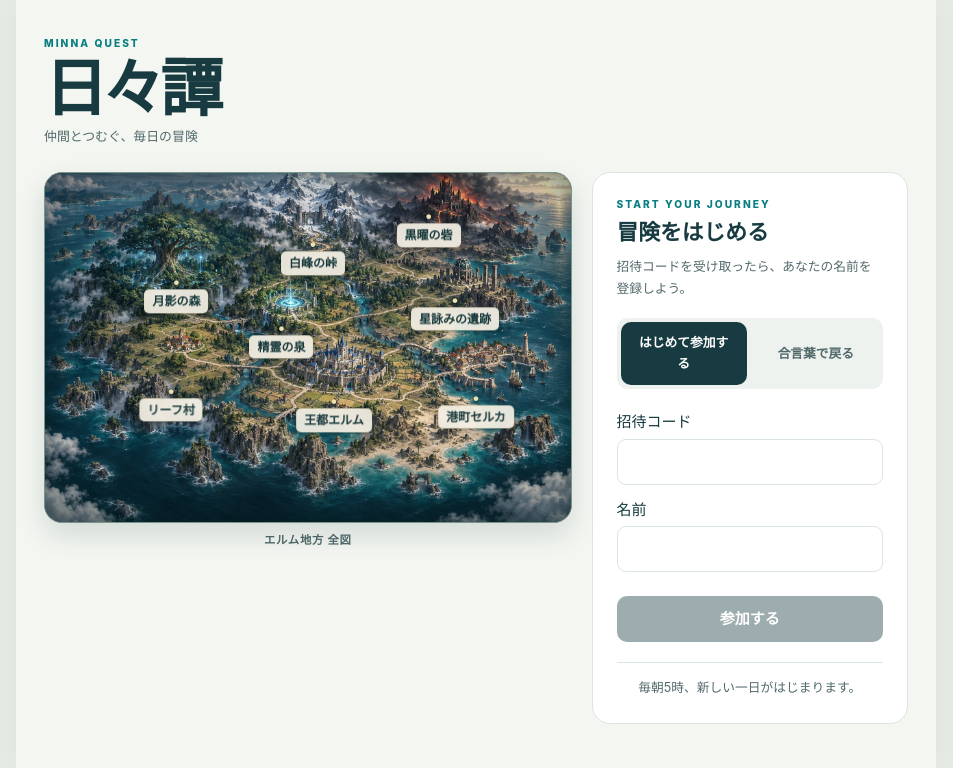
合言葉で戻る › 正しい合言葉を貼ると、招待コードを使わずに入れる
This screenshot has width=953, height=768.
Click the button "合言葉で戻る". click: click(816, 353)
box: left=753, top=322, right=879, bottom=385
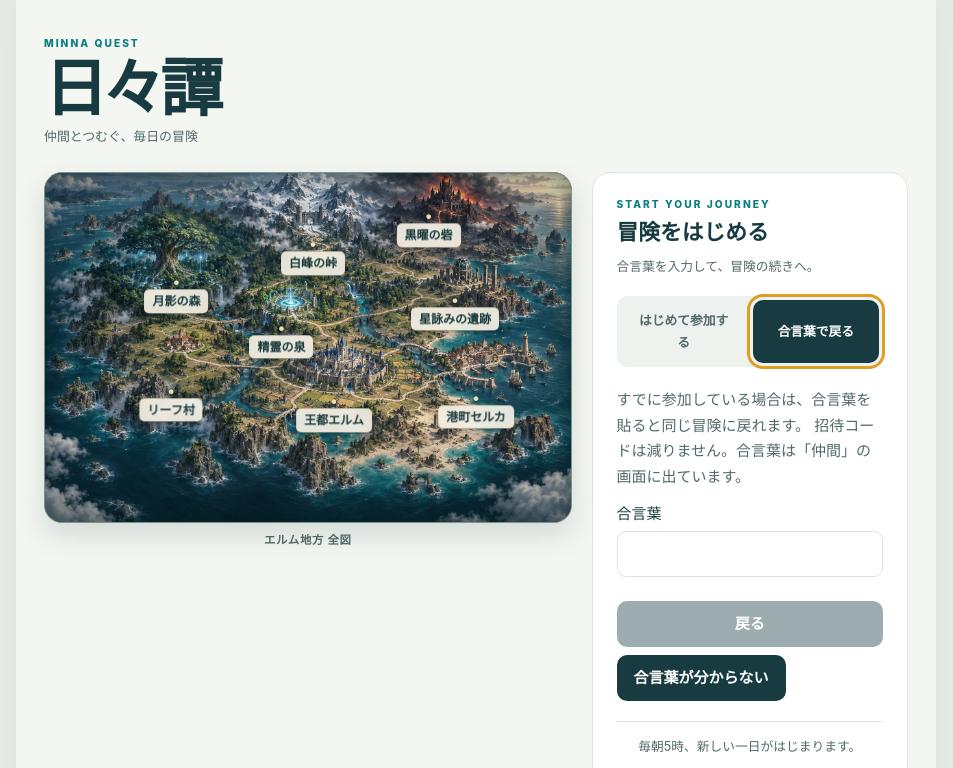
Type "secret-token" into the field labelled "合言葉". click: (750, 554)
box: left=616, top=531, right=883, bottom=577
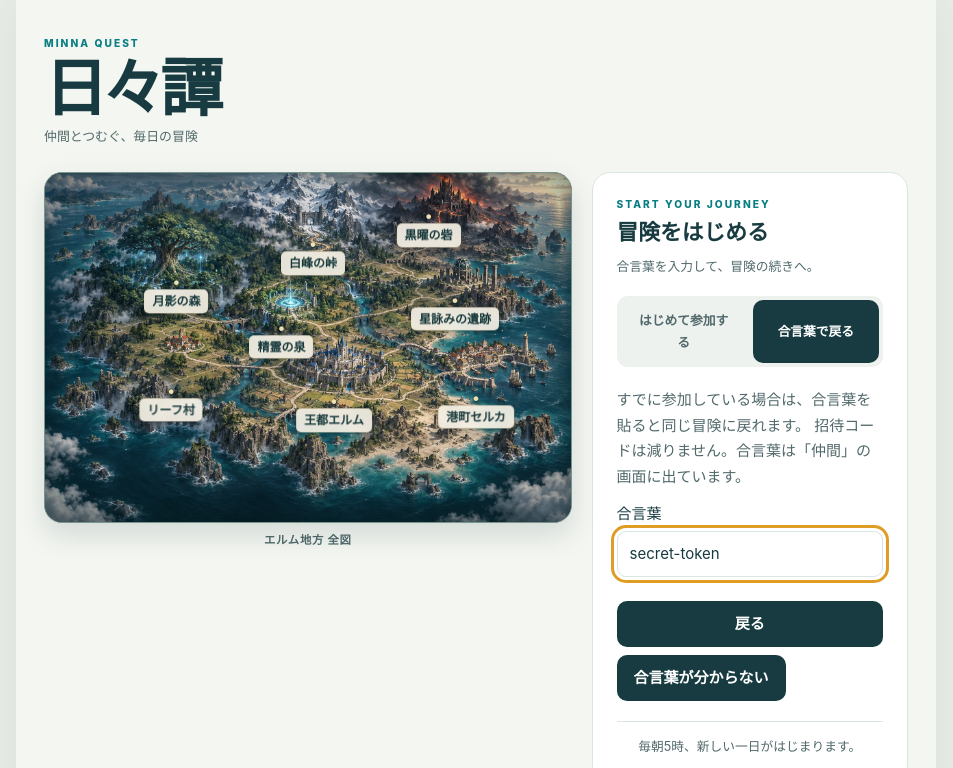
Click the button "戻る". click: click(750, 624)
box: left=616, top=601, right=883, bottom=647
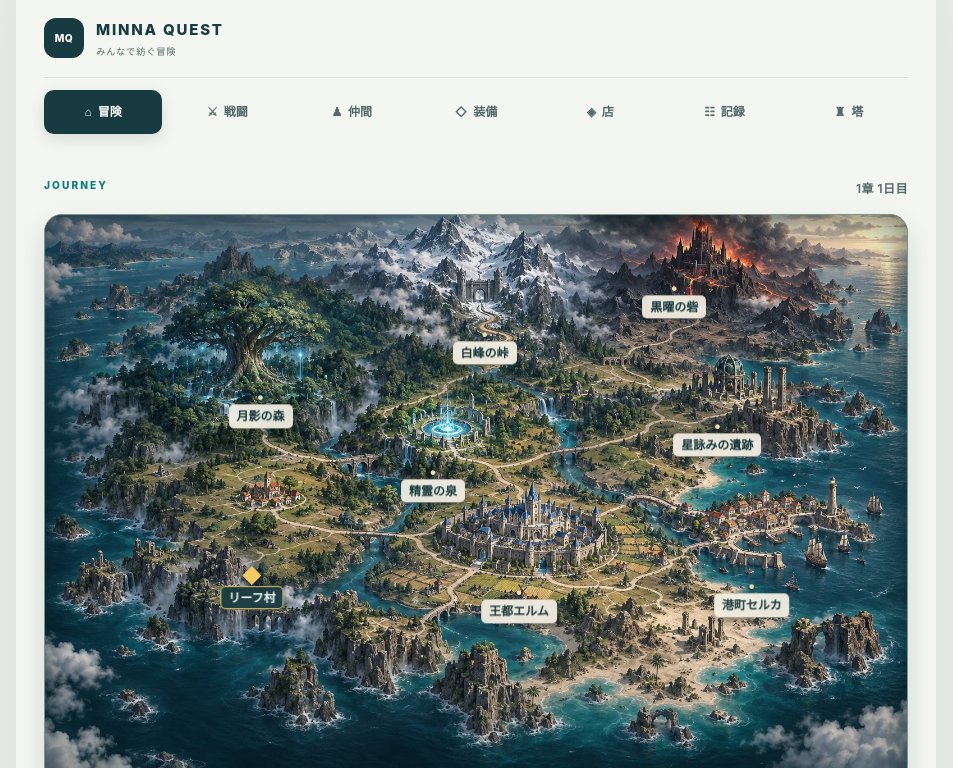
Expected: the heading "1章 1日目" is shown, left=856, top=181, right=908, bottom=196
